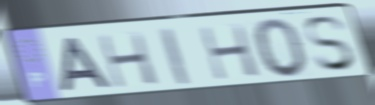A: (58, 35, 116, 94)
H: (95, 30, 162, 91), (196, 22, 263, 83)
I: (156, 25, 193, 88)
O: (252, 16, 310, 81)
S: (302, 13, 360, 74)
